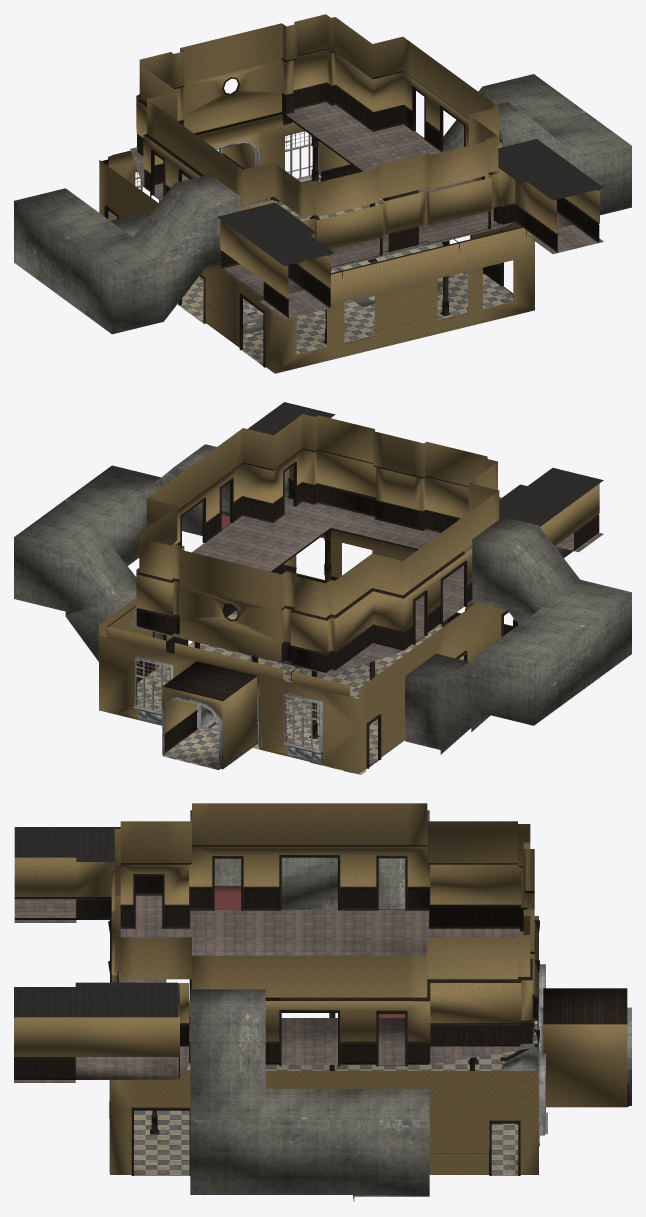
The model's file is #LVL_Entracehall-E.fbx.
3 renders of one model, top to bottom at view 1: azimuth 30°, elevation 25°; view 2: azimuth 150°, elevation 25°; view 3: azimuth 270°, elevation 25°, orthographic. The views are drawn at different scales.
Parts seen in each view (by area): view 1: 1gangobj; view 2: 1gangobj; view 3: 1gangobj.
Boxes of the visible parts, box(x1,y1,x2,y2) form: 1gangobj: box(14, 14, 631, 373); 1gangobj: box(14, 402, 631, 774); 1gangobj: box(14, 803, 631, 1201).
Bounding box in the file's own units: 122 × 41.1 × 103.
